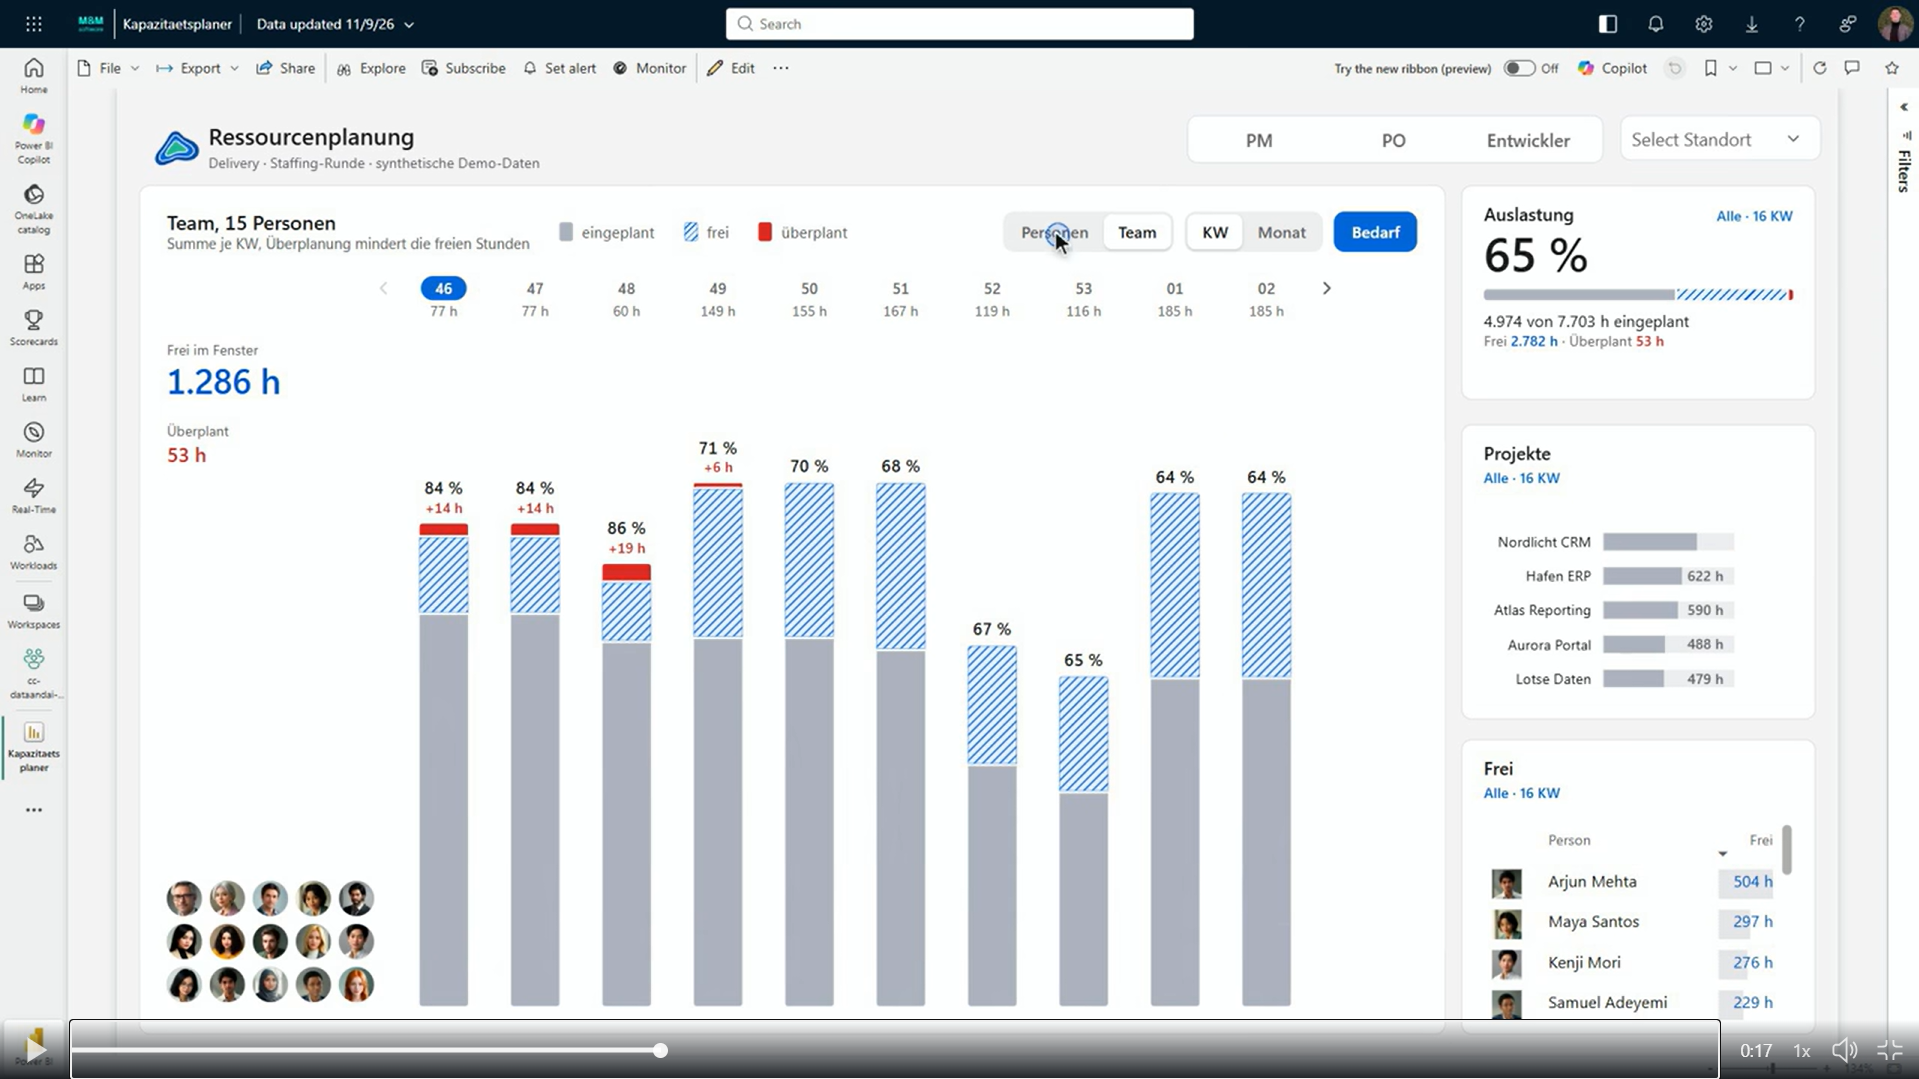

Layout of this report page (visuals, bound fields, positions):
{"tool":"powerbi","page":{"name":"Page 1","canvas":[1660,1720],"ordinal":0},"visuals":[{"type":"htmlContent443BE3AD55E043BF878BED274D3A6855","fields":{"content":["_Measure.HTML Ressourcenplanung"]},"box":[0,0,1660,1720],"z":0}]}

Visuals, with their boxes on the page's 1660x1720 design canvas (x1, y1, x2, y2). These are canvas units, not pixel positions in the 1919x1079 screenshot, which may show the page scaled, cropped or inside an application window:
htmlContent443BE3AD55E043BF878BED274D3A6855 - _Measure.HTML Ressourcenplanung: (x1=0, y1=0, x2=1660, y2=1720)
